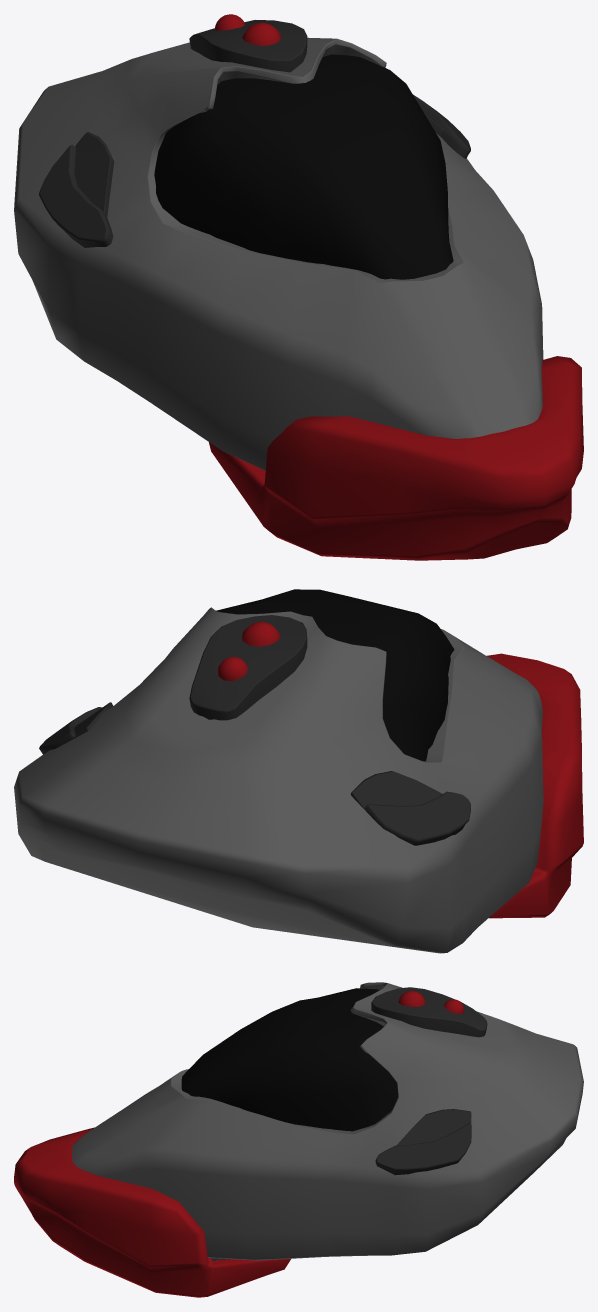
The model's file is Spaceship_main_02_Hull.fbx.
3 views of the same model, one above another, from view 1: azimuth 30°, elevation 25°; view 2: azimuth 150°, elevation 25°; view 3: azimuth 270°, elevation 25° (orthographic). The views are drawn at different scales.
Parts seen in each view (by area): view 1: Spaceship_main_02_Hull; view 2: Spaceship_main_02_Hull; view 3: Spaceship_main_02_Hull.
Part boxes in pixels (x1,y1,x2,y2): Spaceship_main_02_Hull: (14, 14, 583, 560); Spaceship_main_02_Hull: (14, 589, 583, 953); Spaceship_main_02_Hull: (14, 982, 583, 1297).
Bounding box in the file's own units: 290 × 255 × 509.
